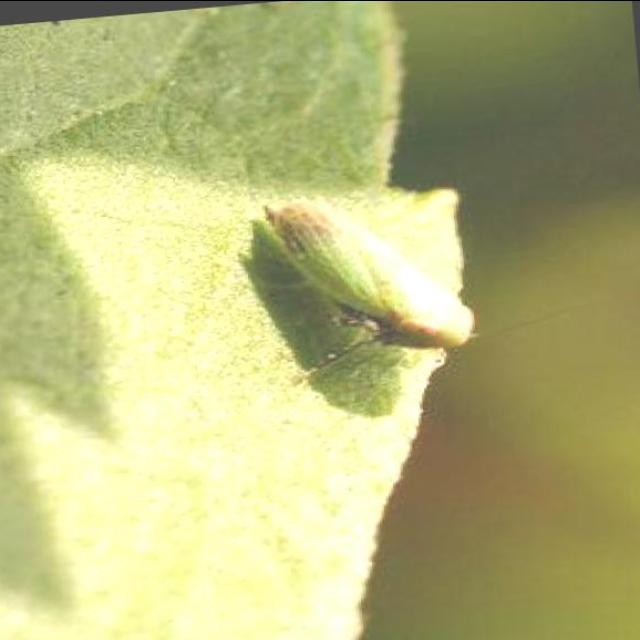green leaf hopper: (266, 202, 474, 362)
